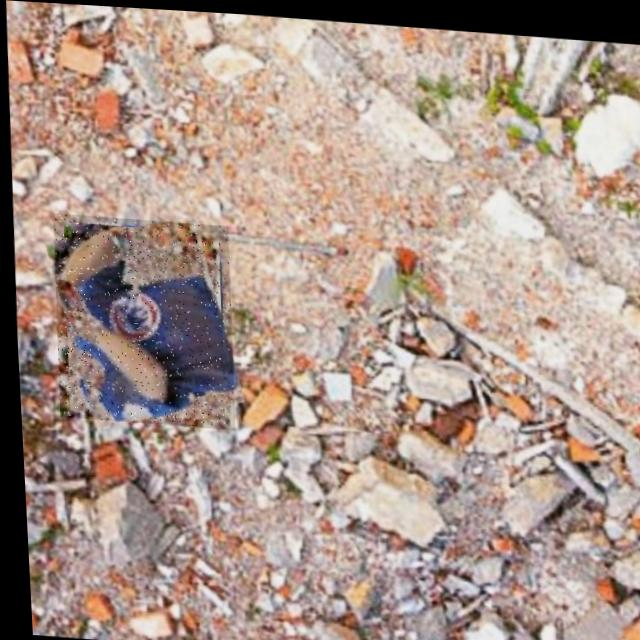Person in Rubble: (47, 211, 234, 426)
